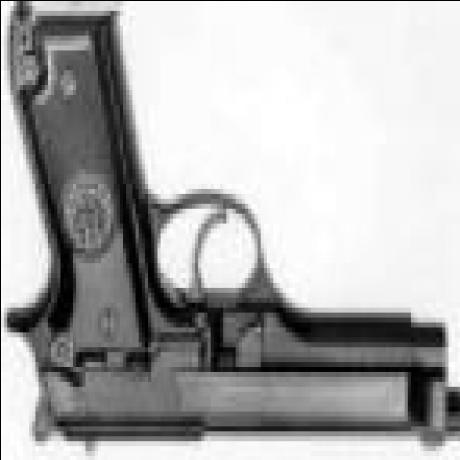weapon: (0, 5, 458, 454)
